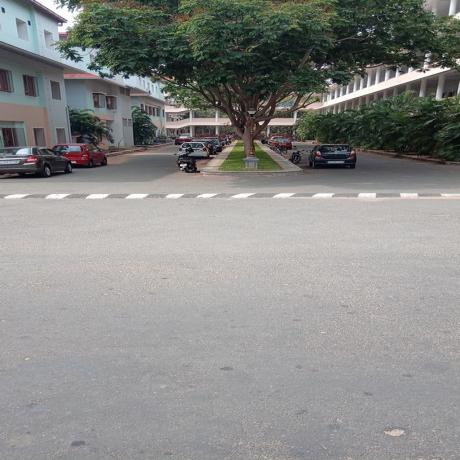Speed Bump: (0, 192, 459, 202)
